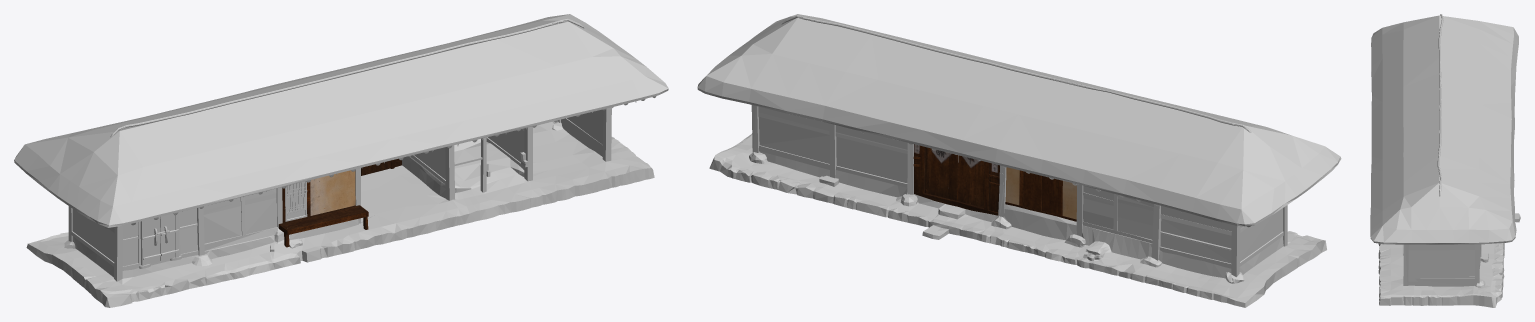
The model's file is SM_Prop_House_02.fbx.
The picture shows the model from 3 angles, left to right: view 1: azimuth 30°, elevation 25°; view 2: azimuth 150°, elevation 25°; view 3: azimuth 270°, elevation 25°; orthographic projection. The views are drawn at different scales.
Parts seen in each view (by area): view 1: SM_Prop_House_02; view 2: SM_Prop_House_02; view 3: SM_Prop_House_02.
Boxes of the visible parts, x1=… form: SM_Prop_House_02: x1=14, y1=14, x2=668, y2=307; SM_Prop_House_02: x1=697, y1=14, x2=1341, y2=307; SM_Prop_House_02: x1=1370, y1=14, x2=1520, y2=307.
Bounding box in the file's own units: 3394 × 801 × 1015.
